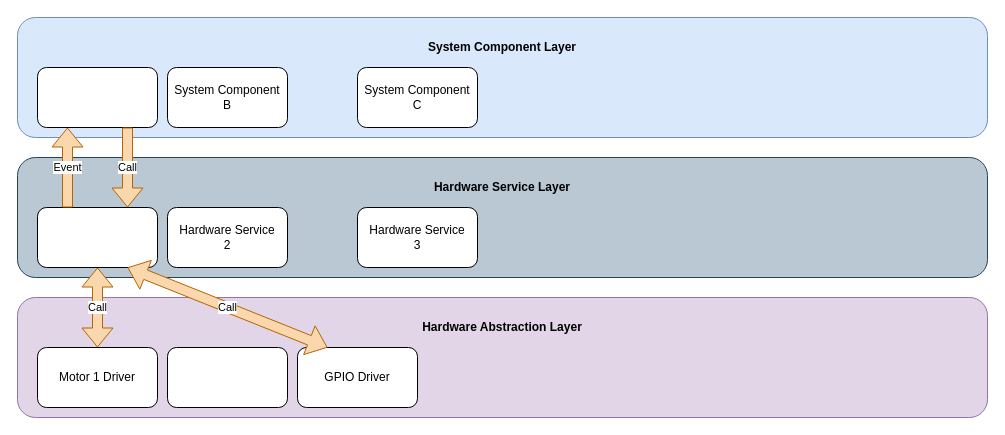
Some shapes in this 1005 by 435 pixel diagram are drawn without their labels. Each missing label, with the centre of its shape:
"Hardware Service 1" goes at pixel 97 237.
"Motor 2 Driver" goes at pixel 227 377.
"System Component A" goes at pixel 97 97.
